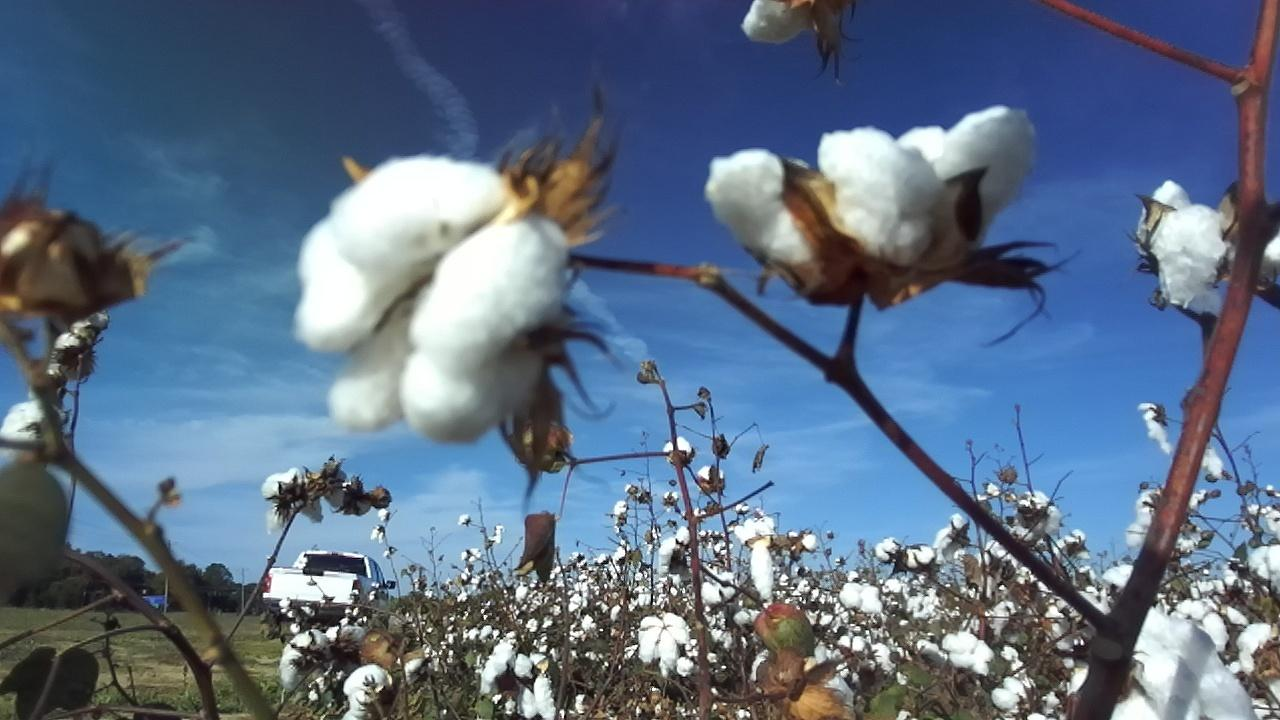cotton_ready: (296, 154, 572, 447), (705, 104, 1037, 306), (1072, 604, 1259, 720), (0, 402, 72, 587), (1144, 179, 1229, 318), (265, 471, 324, 537), (733, 517, 775, 603), (279, 630, 332, 692), (637, 610, 690, 671), (742, 0, 814, 42), (343, 664, 392, 720), (1252, 544, 1280, 587)
